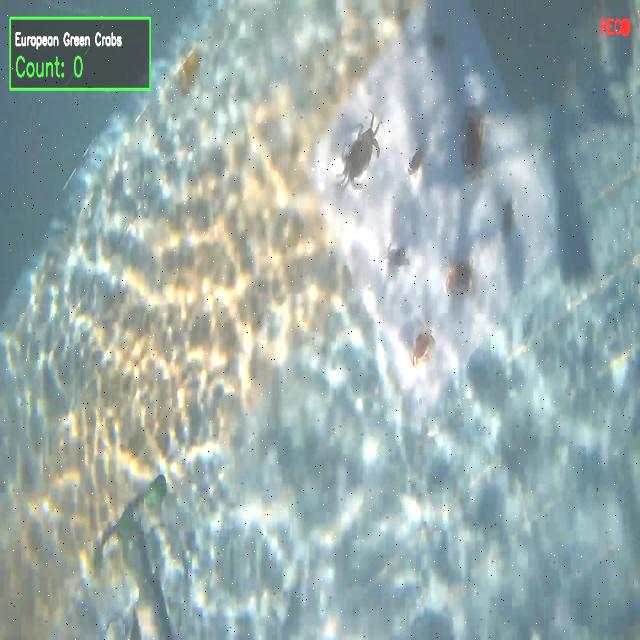European_Green_Crab: (327, 105, 390, 206), (384, 237, 409, 277), (498, 198, 518, 244)
